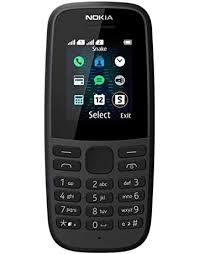Smartphone: (50, 10, 149, 247)
